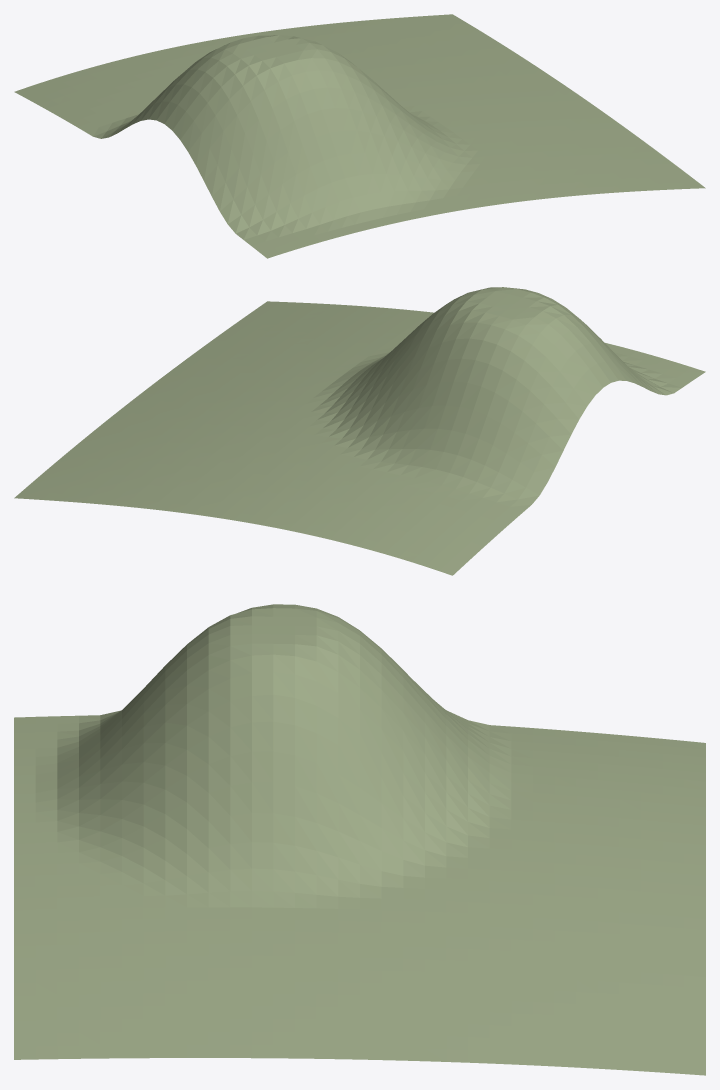
Rendered from expanse-17-17.glb.
3 renders of one model, top to bottom at view 1: azimuth 30°, elevation 25°; view 2: azimuth 150°, elevation 25°; view 3: azimuth 270°, elevation 25°, orthographic. The views are drawn at different scales.
Visible parts, largest first — view 1: expanse-17-17; view 2: expanse-17-17; view 3: expanse-17-17.
Boxes of the visible parts, x1,y1,x2,y2 form: expanse-17-17: [14, 14, 705, 258]; expanse-17-17: [14, 287, 705, 575]; expanse-17-17: [14, 604, 705, 1075].
Size of the model in its own units: 256 by 90.63 by 256.
